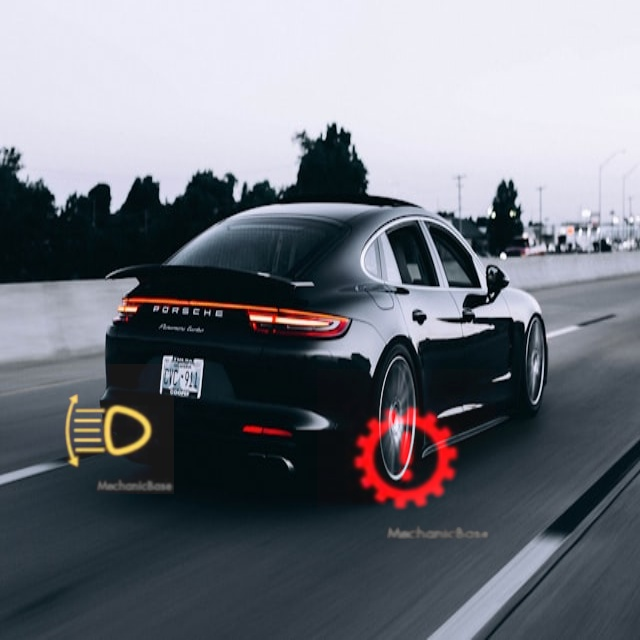symbol: (317, 369, 496, 548), (44, 364, 174, 494)
